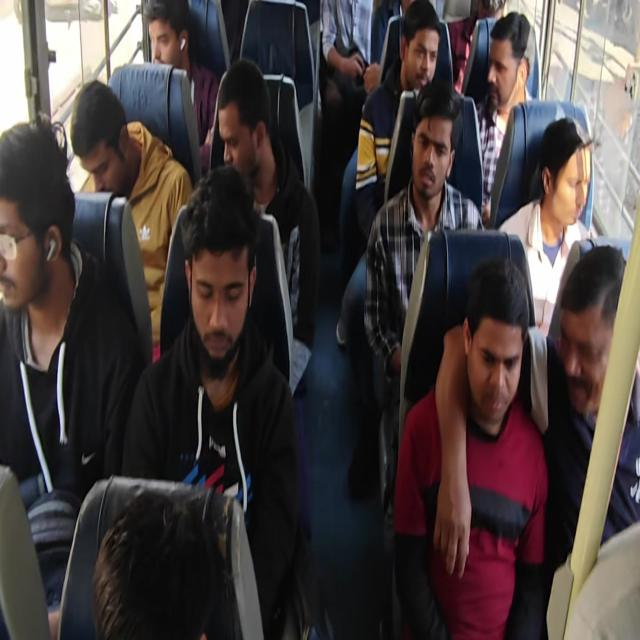person: (92, 487, 226, 640), (179, 155, 261, 378), (0, 118, 70, 324), (560, 281, 628, 422), (463, 293, 528, 425), (213, 71, 280, 180), (79, 71, 136, 198), (549, 125, 595, 237), (479, 22, 535, 106), (404, 112, 451, 193), (139, 0, 189, 63), (403, 33, 445, 96), (465, 0, 505, 35)
